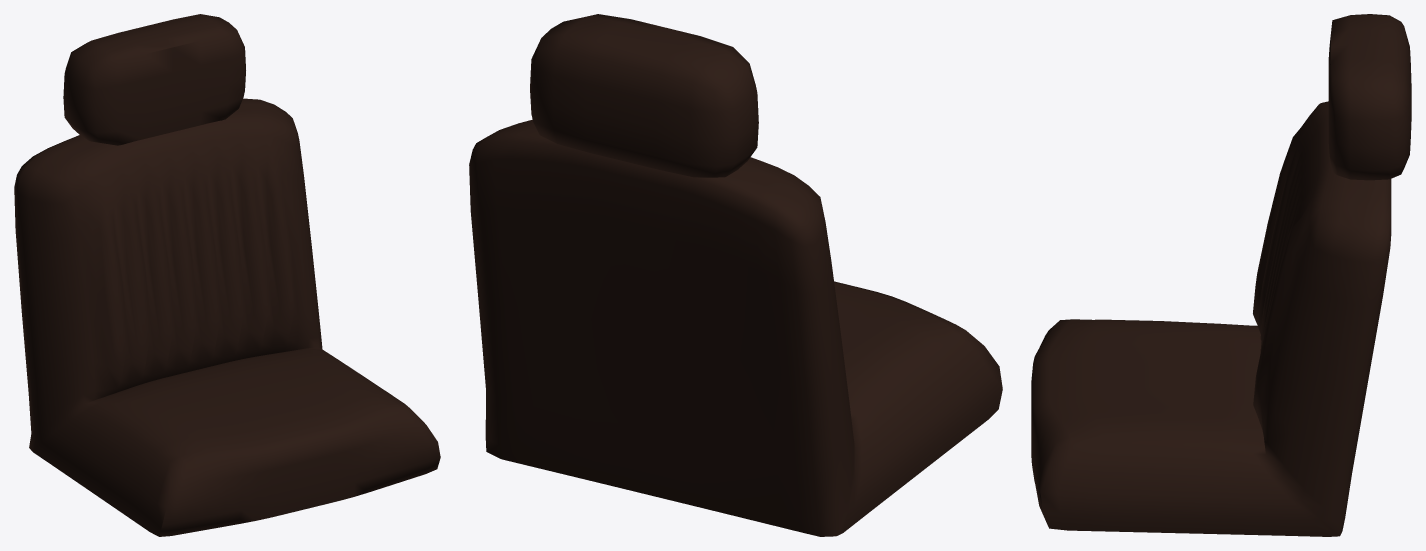
The model's file is seat1.fbx.
3 views of the same model, side by side, from view 1: azimuth 30°, elevation 25°; view 2: azimuth 150°, elevation 25°; view 3: azimuth 270°, elevation 25° (orthographic). The views are drawn at different scales.
Parts seen in each view (by area): view 1: seat1; view 2: seat1; view 3: seat1.
Boxes of the visible parts, box(x1,y1,x2,y2) form: seat1: box(14, 14, 440, 536); seat1: box(469, 14, 1002, 536); seat1: box(1031, 14, 1411, 536).
Bounding box in the file's own units: 33.85 × 43.1 × 35.45.
